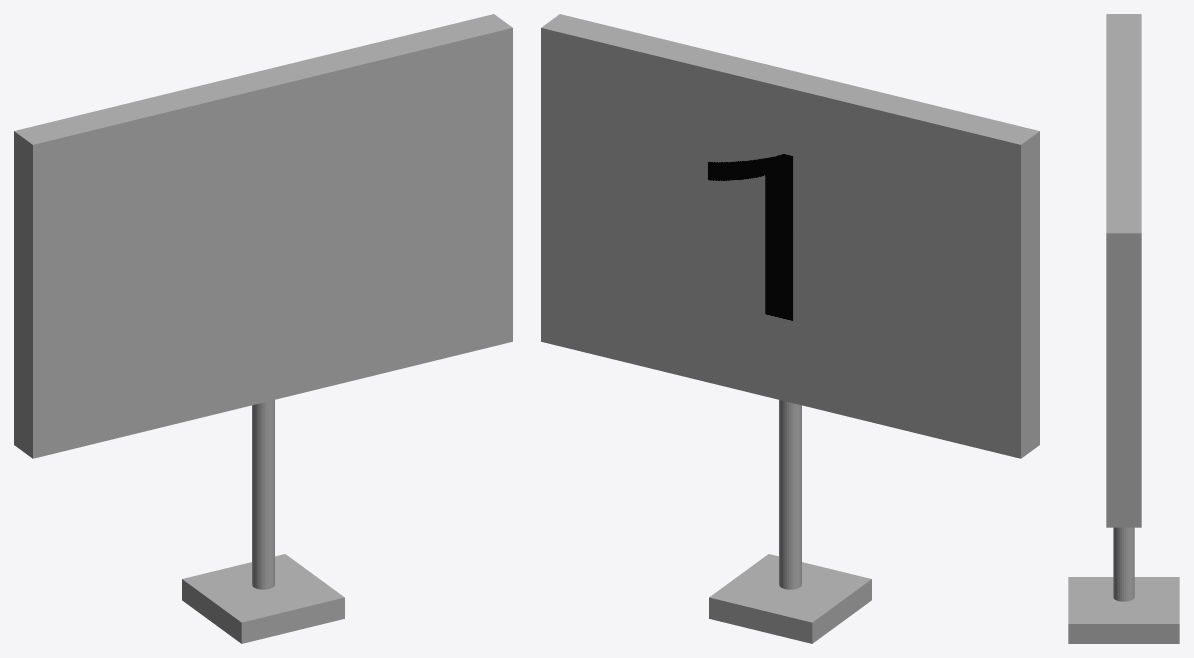
The model's file is Kanban1.obj.
3 renders of one model, left to right at view 1: azimuth 30°, elevation 25°; view 2: azimuth 150°, elevation 25°; view 3: azimuth 270°, elevation 25°, orthographic. The views are drawn at different scales.
Visible parts, largest first — view 1: 立方体; view 2: 立方体; view 3: 立方体.
Boxes of the visible parts, left/top/right/bottom form: 立方体: left=14, top=14, right=512, bottom=643; 立方体: left=541, top=14, right=1039, bottom=643; 立方体: left=1068, top=14, right=1179, bottom=643.
Bounding box in the file's own units: 0.8471 × 0.8941 × 0.1821.
Materials: 1 (1 with a texture image).
